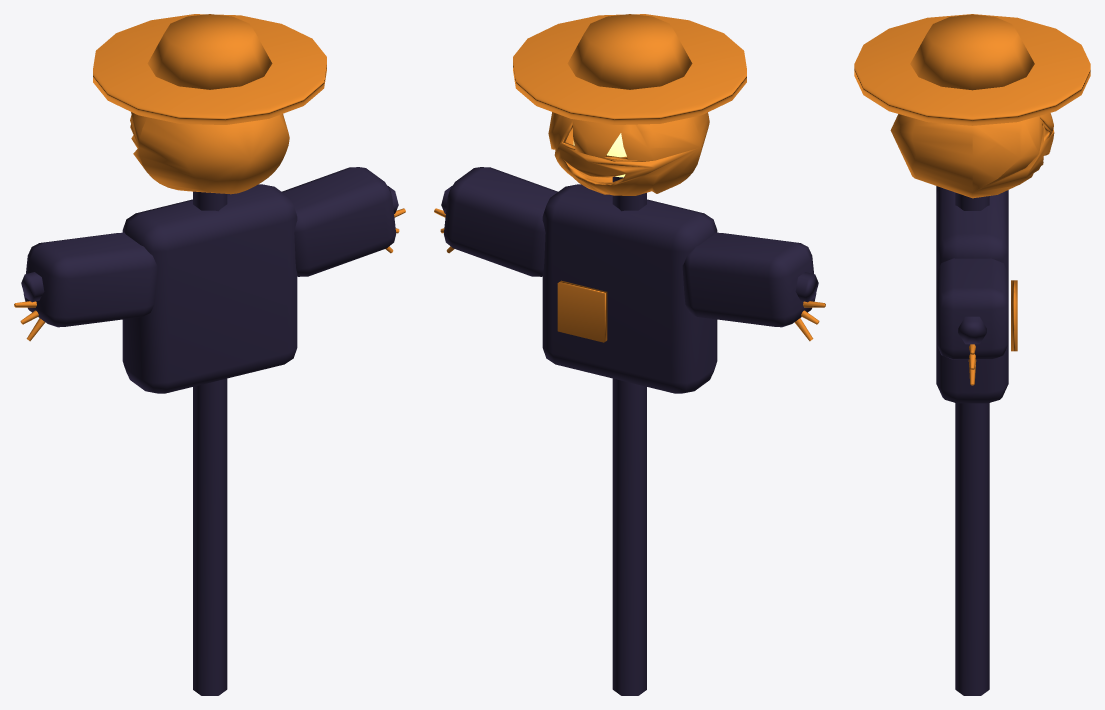
Rendered from scarecrow.glb.
3 views of the same model, side by side, from view 1: azimuth 30°, elevation 25°; view 2: azimuth 150°, elevation 25°; view 3: azimuth 270°, elevation 25° (orthographic).
Bounding box in the file's own units: 1.18 × 1.9 × 0.62.
